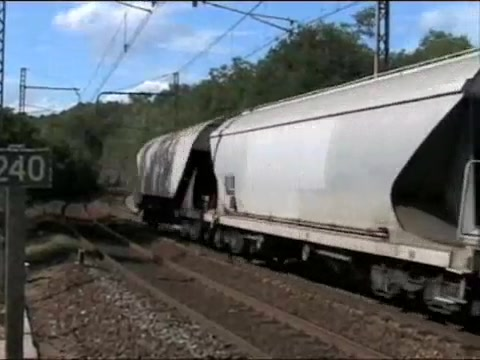train: (136, 48, 480, 319)
